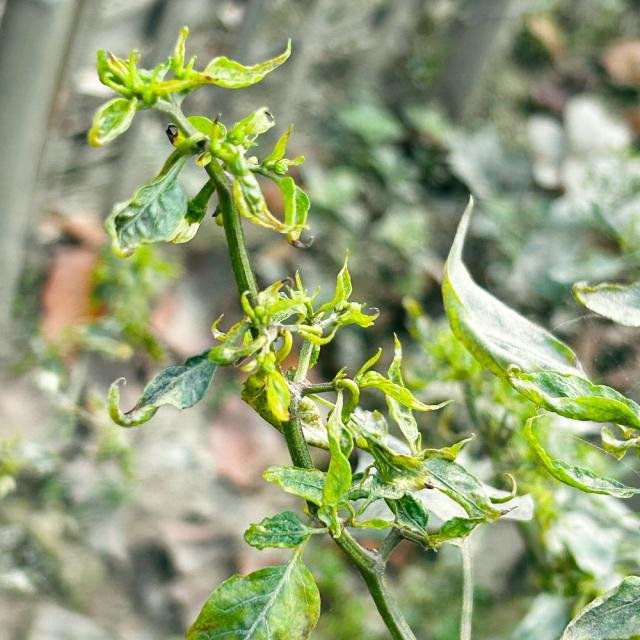Chilli_Leaf_Curl: (85, 25, 638, 637), (439, 193, 639, 498), (86, 25, 311, 259), (86, 25, 292, 148), (184, 537, 322, 639), (523, 411, 639, 498), (105, 347, 220, 427), (559, 573, 639, 639), (570, 278, 639, 328)
